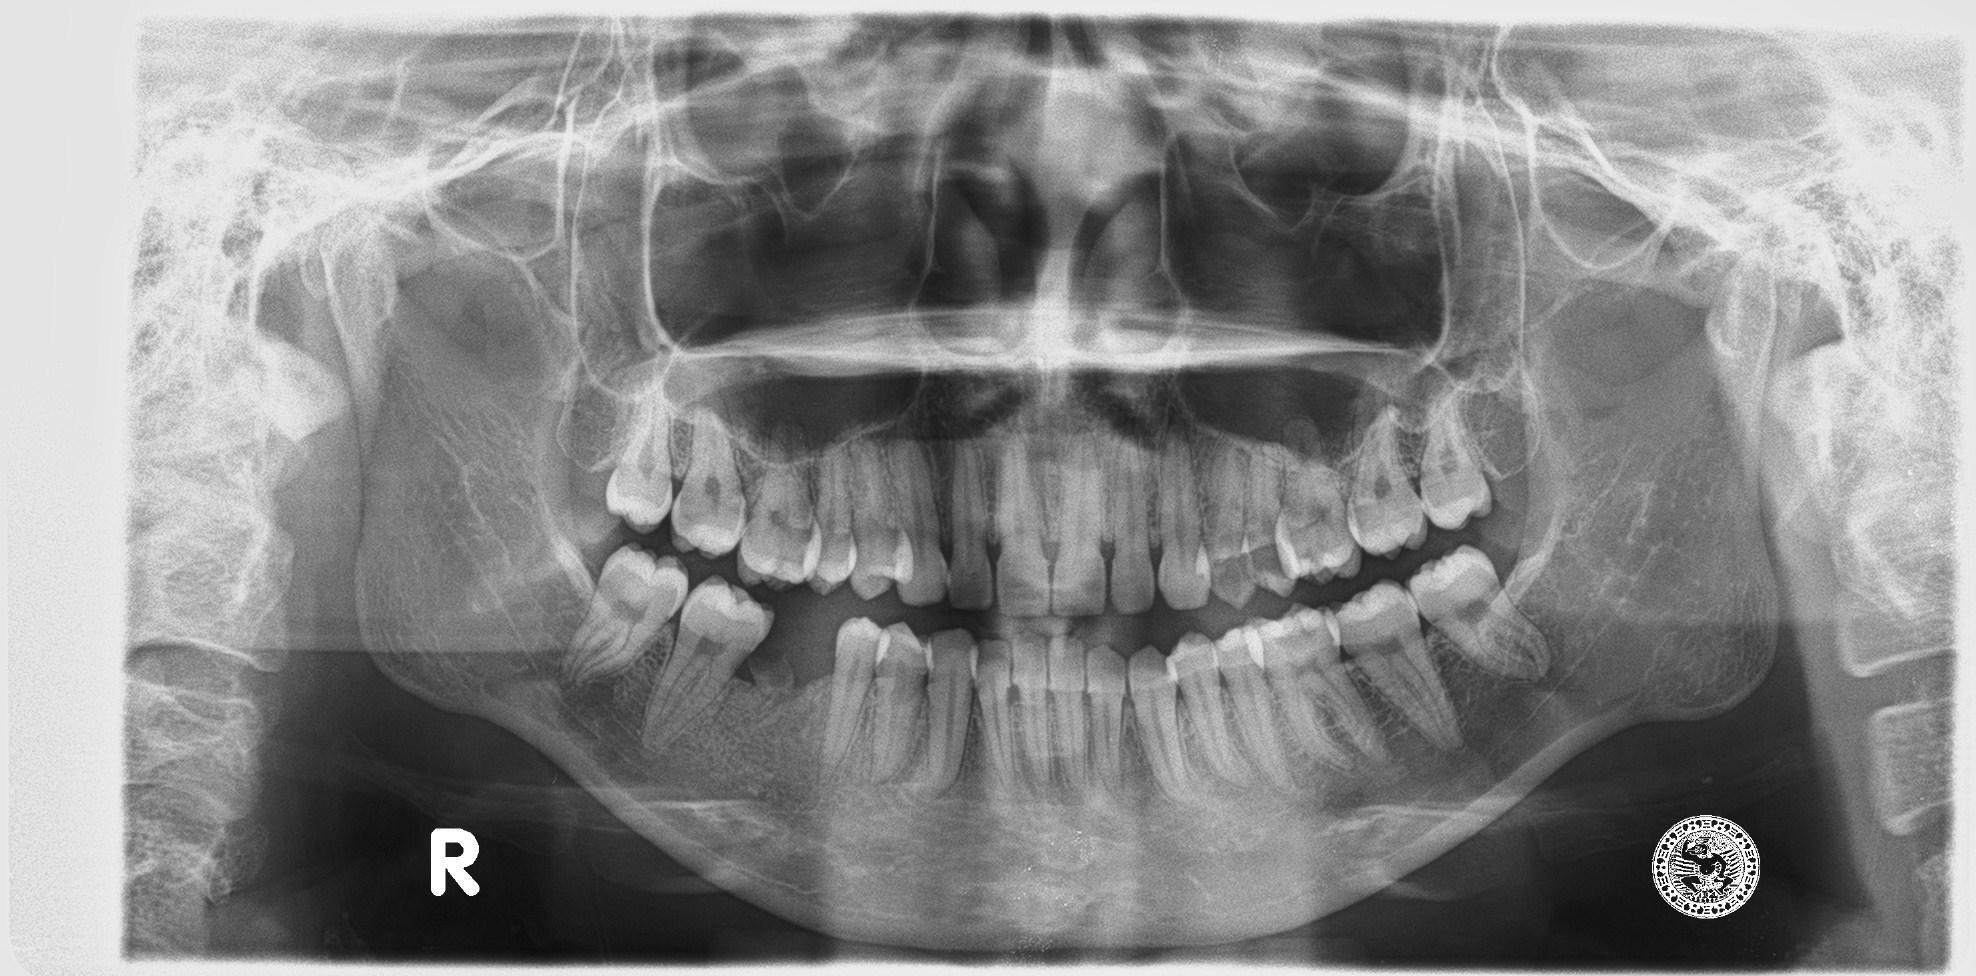Individual Tooth: (1241, 605, 1390, 773), (643, 574, 778, 754), (1327, 586, 1467, 753), (1404, 545, 1555, 682), (560, 541, 691, 681), (1274, 417, 1362, 584), (738, 424, 824, 588), (1210, 627, 1294, 792), (1166, 634, 1250, 786), (819, 617, 892, 778), (669, 410, 747, 559), (1348, 407, 1427, 556), (1127, 647, 1198, 806), (867, 622, 935, 787), (848, 438, 915, 600), (1051, 433, 1106, 617), (606, 383, 673, 532), (922, 628, 978, 803), (1419, 392, 1490, 530), (888, 441, 946, 607), (1157, 438, 1211, 609), (999, 434, 1050, 617), (1244, 444, 1301, 594), (1207, 439, 1256, 609), (1110, 438, 1156, 614), (969, 639, 1017, 798), (804, 443, 854, 593), (950, 448, 994, 609), (1009, 634, 1054, 793), (1085, 646, 1127, 793), (1047, 634, 1086, 789)
